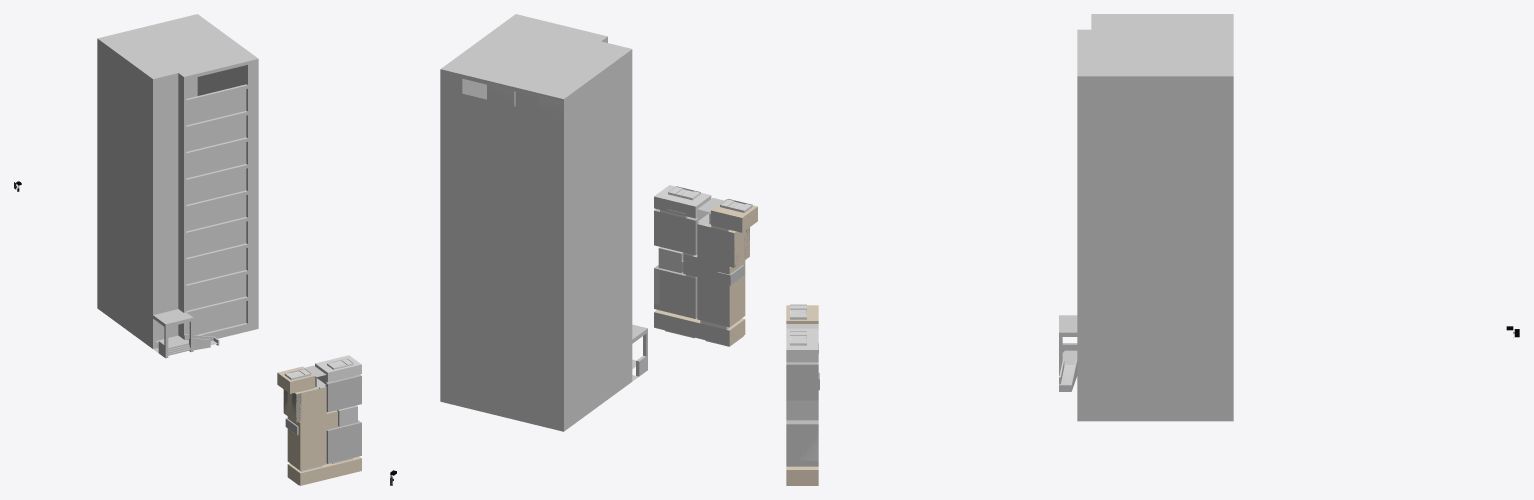
File: LivingRoom.fbx
The picture shows the model from 3 angles, left to right: view 1: azimuth 30°, elevation 25°; view 2: azimuth 150°, elevation 25°; view 3: azimuth 270°, elevation 25°; orthographic projection. The views are drawn at different scales.
Parts seen in each view (by area): view 1: Apart_Outside, Main_Wall, MyRoom_Wall, Balcony_Wall, SisRoom_Wall, SisRoom_Balcony_Wall, Kitchen_Balcony_Wall; view 2: Apart_Outside, Main_Wall, MyRoom_Wall, Balcony_Wall, SisRoom_Wall, SisRoom_Balcony_Wall, Kitchen_Balcony_Wall, Bathroom_Wall; view 3: Apart_Outside, MyRoom_Wall, SisRoom_Wall, SisRoom_Balcony_Wall.
Boxes of the visible parts, x1=… form: Apart_Outside: x1=97, y1=14, x2=258, y2=358; Main_Wall: x1=283, y1=387, x2=337, y2=470; MyRoom_Wall: x1=326, y1=420, x2=361, y2=463; Balcony_Wall: x1=287, y1=456, x2=361, y2=485; SisRoom_Wall: x1=325, y1=374, x2=361, y2=412; SisRoom_Balcony_Wall: x1=315, y1=355, x2=361, y2=382; Kitchen_Balcony_Wall: x1=277, y1=366, x2=315, y2=393; Apart_Outside: x1=440, y1=14, x2=647, y2=431; Main_Wall: x1=683, y1=224, x2=749, y2=327; MyRoom_Wall: x1=654, y1=265, x2=697, y2=318; Balcony_Wall: x1=654, y1=309, x2=745, y2=345; SisRoom_Wall: x1=654, y1=209, x2=698, y2=255; SisRoom_Balcony_Wall: x1=654, y1=185, x2=711, y2=218; Kitchen_Balcony_Wall: x1=711, y1=199, x2=757, y2=232; Bathroom_Wall: x1=658, y1=247, x2=683, y2=273; Apart_Outside: x1=1059, y1=14, x2=1233, y2=421; MyRoom_Wall: x1=786, y1=420, x2=818, y2=466; SisRoom_Wall: x1=786, y1=362, x2=818, y2=400; SisRoom_Balcony_Wall: x1=786, y1=328, x2=818, y2=362.
Size of the model in its own units: 13.2 by 41.15 by 65.58.
